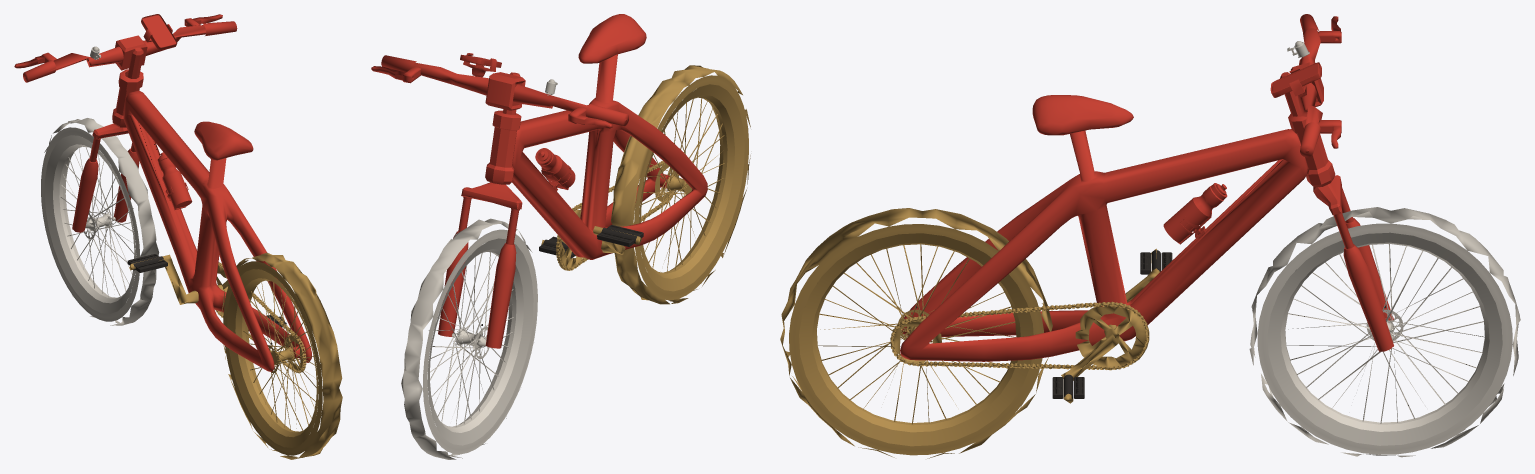
The model's file is bicycle.glb.
3 renders of one model, left to right at view 1: azimuth 30°, elevation 25°; view 2: azimuth 150°, elevation 25°; view 3: azimuth 270°, elevation 25°, orthographic. The views are drawn at different scales.
Visible parts, largest first — view 1: frame, drive, rim, metal, tire; view 2: frame, drive, rim, metal, tire; view 3: frame, drive, rim, metal, tire.
Part boxes in pixels (<box>): frame: <box>14,14,311,371</box>; drive: <box>129,252,342,459</box>; rim: <box>41,127,140,321</box>; metal: <box>44,46,159,325</box>; tire: <box>89,210,286,344</box>; frame: <box>371,14,707,348</box>; drive: <box>541,65,750,304</box>; rim: <box>423,229,537,454</box>; metal: <box>401,79,557,459</box>; tire: <box>481,225,643,325</box>; frame: <box>900,14,1393,361</box>; drive: <box>780,208,1159,458</box>; rim: <box>1257,223,1512,454</box>; metal: <box>1249,41,1520,457</box>; tire: <box>916,250,1385,398</box>.
Size of the model in its own units: 1.43 by 2.05 by 3.4.
